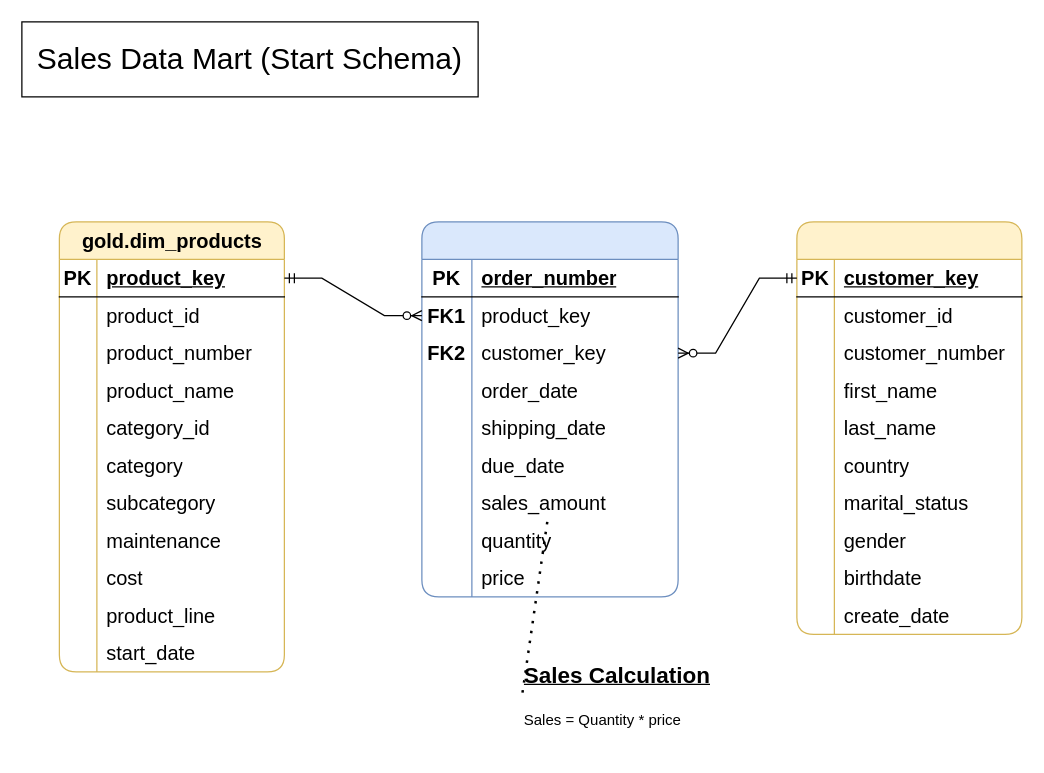
This 1044x773 diagram has some shape labels left out. Here are the shapes that lost their labels. From the top down, the box of each, then its label:
(421, 221, 678, 597): gold.fact_sales
(796, 221, 1022, 634): gold.dim_customers
